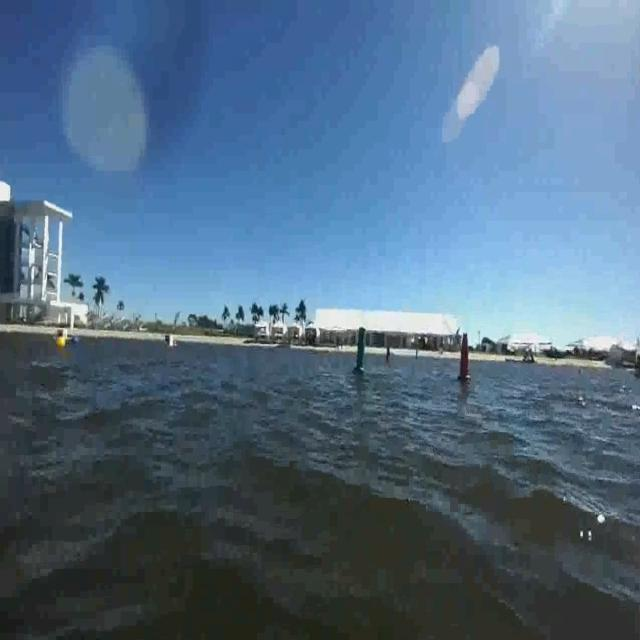green-column-buoy: (352, 326, 370, 376)
red-column-buoy: (457, 332, 472, 382)
yellow-duck: (58, 335, 68, 352)
